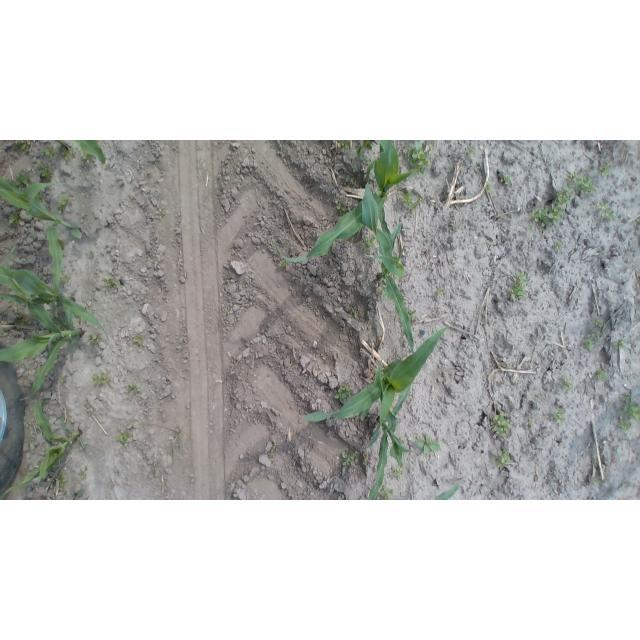Maize: (298, 325, 455, 450), (271, 140, 428, 264), (1, 223, 112, 342), (1, 263, 88, 404), (0, 177, 84, 319), (362, 141, 417, 356), (0, 398, 82, 500), (362, 357, 415, 499), (55, 141, 107, 165)
Weeds: (529, 201, 568, 228), (405, 141, 429, 175), (619, 395, 640, 433), (565, 173, 597, 196), (491, 411, 514, 440), (414, 433, 441, 456), (509, 270, 528, 301), (400, 192, 425, 210), (597, 200, 618, 221), (492, 448, 513, 468), (339, 450, 359, 471), (582, 330, 603, 350), (333, 384, 353, 404), (92, 371, 113, 389), (101, 276, 123, 293), (550, 407, 568, 426), (58, 144, 77, 161), (12, 171, 29, 189), (75, 151, 96, 165), (554, 187, 571, 204), (114, 430, 132, 446), (57, 196, 72, 215), (37, 166, 53, 183), (12, 140, 33, 152), (69, 488, 88, 500), (361, 236, 376, 251), (561, 376, 574, 393), (266, 442, 278, 460), (56, 471, 68, 489), (378, 486, 394, 499), (125, 382, 142, 394), (9, 210, 22, 225), (614, 339, 629, 352), (14, 316, 31, 327), (407, 309, 420, 323), (600, 163, 613, 177), (592, 318, 605, 331), (132, 334, 145, 346), (90, 332, 102, 345), (44, 146, 56, 159), (393, 466, 404, 480), (337, 141, 351, 152), (501, 174, 513, 186), (60, 274, 71, 287), (378, 288, 389, 301), (336, 203, 347, 216), (349, 308, 360, 320), (596, 369, 607, 381), (524, 416, 536, 427), (155, 206, 165, 219), (79, 467, 88, 481), (361, 453, 369, 468), (436, 286, 446, 297), (466, 145, 477, 155), (485, 183, 494, 194), (554, 242, 565, 251), (591, 478, 602, 486), (58, 375, 67, 384), (222, 308, 232, 316), (278, 259, 286, 269), (87, 251, 95, 260), (105, 163, 112, 171)
